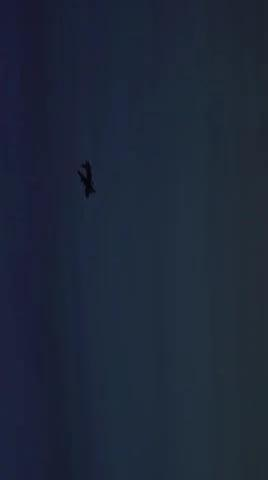Plane: (67, 140, 104, 214)
